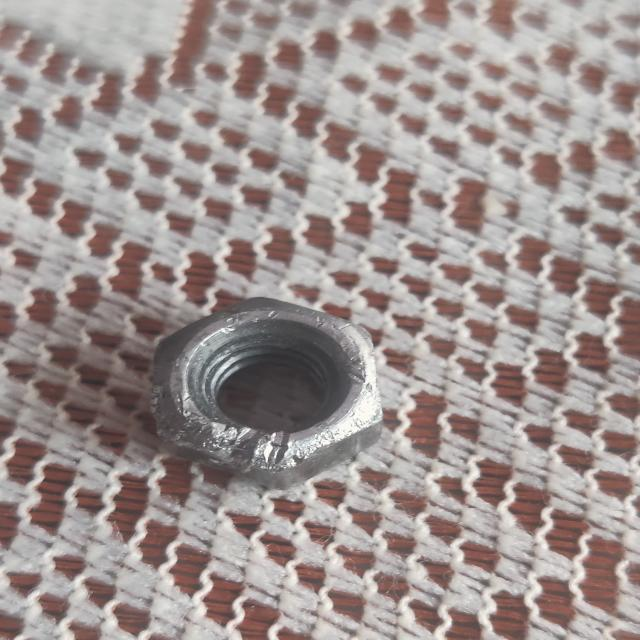infected nut: (153, 298, 383, 488)
